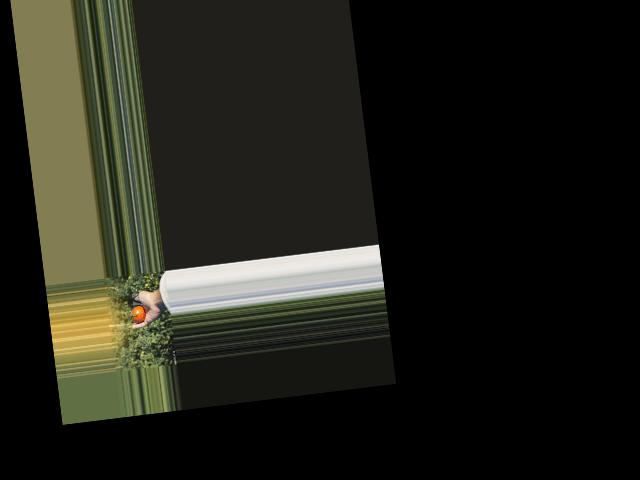tomato: (129, 306, 146, 324)
